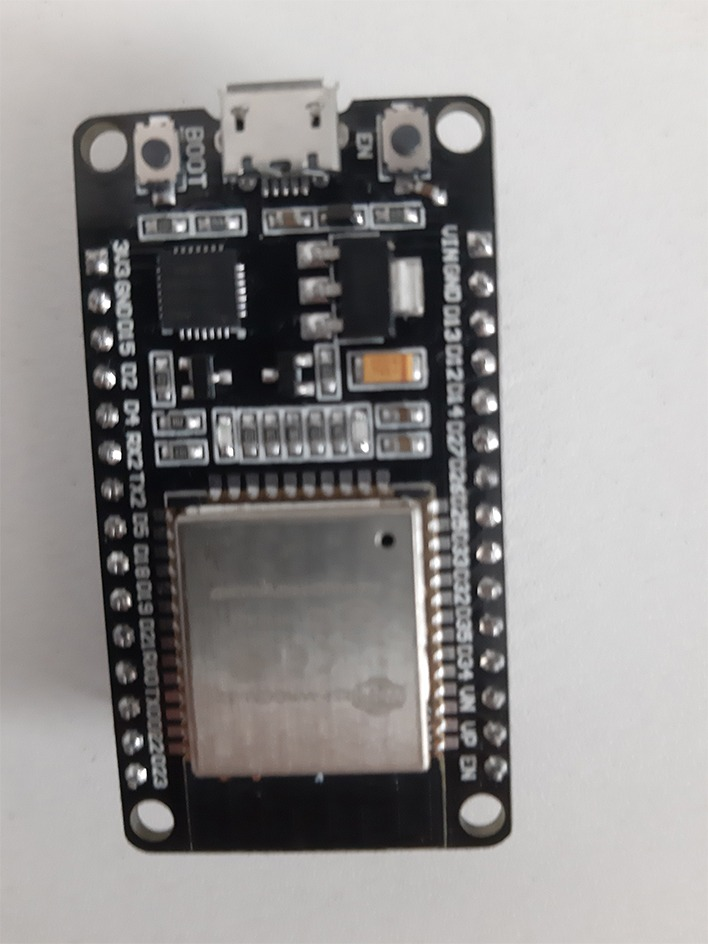ESP32-WROOM: (31, 69, 571, 930)
